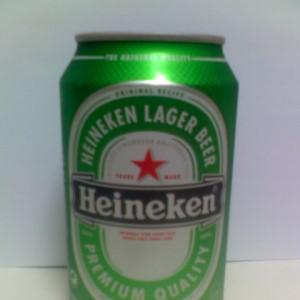beer: (58, 31, 234, 300)
